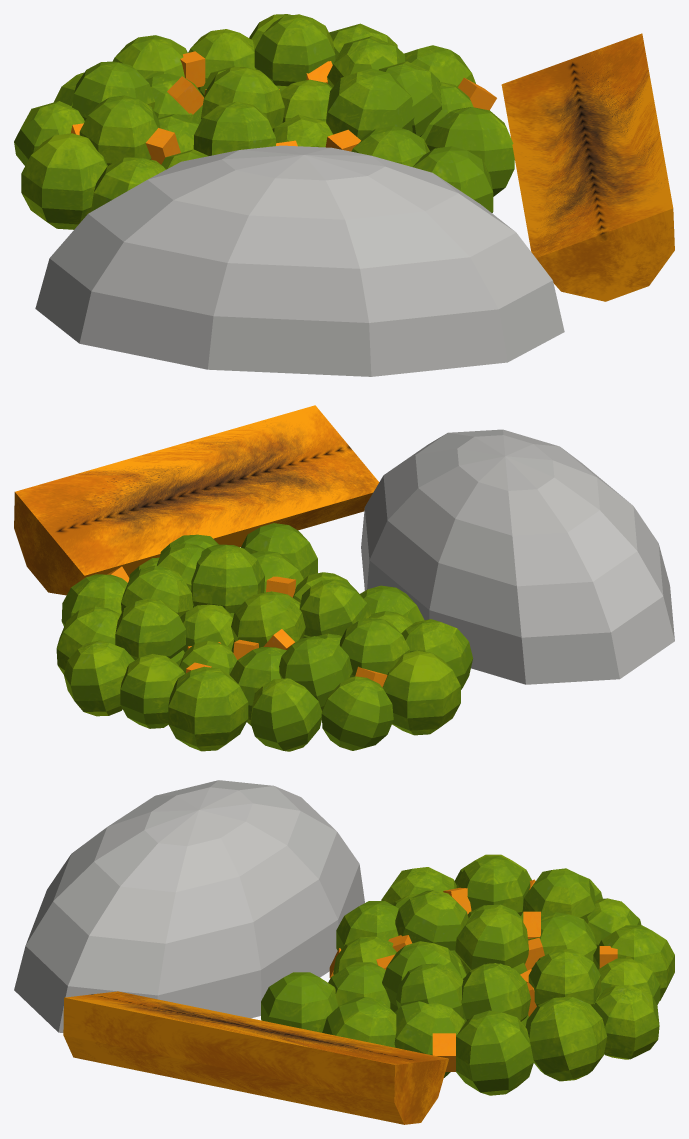
The model's file is alverjaFull.glb.
3 views of the same model, one above another, from view 1: azimuth 30°, elevation 25°; view 2: azimuth 150°, elevation 25°; view 3: azimuth 270°, elevation 25° (orthographic). The views are drawn at different scales.
Visible parts, largest first — view 1: Arroz, Platano, polySurface4, polySurface31, polySurface27, polySurface34, polySurface29, polySurface28, polySurface30, polySurface26, polySurface33, polySurface20 (+17 smaller); view 2: Arroz, Platano, polySurface19, polySurface4, polySurface20, polySurface9, polySurface23, polySurface31, polySurface17, polySurface27, polySurface26, polySurface28 (+14 smaller); view 3: Arroz, Platano, polySurface24, polySurface22, polySurface23, polySurface30, polySurface33, polySurface32, polySurface28, polySurface27, polySurface29, polySurface26 (+13 smaller).
Part boxes in pixels (bbox=[...]): Arroz: bbox=[35, 145, 564, 376]; Platano: bbox=[501, 33, 674, 301]; polySurface4: bbox=[21, 133, 107, 229]; polySurface31: bbox=[326, 68, 414, 139]; polySurface27: bbox=[254, 14, 335, 86]; polySurface34: bbox=[425, 107, 514, 196]; polySurface29: bbox=[79, 95, 160, 165]; polySurface28: bbox=[193, 101, 275, 155]; polySurface30: bbox=[201, 67, 284, 128]; polySurface26: bbox=[72, 61, 154, 120]; polySurface33: bbox=[413, 146, 493, 212]; polySurface20: bbox=[14, 101, 84, 165]; Arroz: bbox=[361, 429, 674, 684]; Platano: bbox=[14, 405, 379, 595]; polySurface19: bbox=[168, 666, 248, 751]; polySurface4: bbox=[382, 650, 460, 735]; polySurface20: bbox=[321, 676, 393, 750]; polySurface9: bbox=[250, 678, 321, 751]; polySurface23: bbox=[64, 640, 134, 716]; polySurface31: bbox=[191, 544, 264, 613]; polySurface17: bbox=[120, 654, 184, 728]; polySurface27: bbox=[115, 598, 185, 660]; polySurface26: bbox=[279, 636, 352, 711]; polySurface28: bbox=[299, 579, 370, 636]; Arroz: bbox=[14, 780, 364, 1032]; Platano: bbox=[63, 991, 448, 1124]; polySurface24: bbox=[525, 997, 607, 1081]; polySurface22: bbox=[456, 1010, 533, 1095]; polySurface23: bbox=[592, 984, 659, 1059]; polySurface30: bbox=[455, 908, 528, 970]; polySurface33: bbox=[261, 972, 338, 1032]; polySurface32: bbox=[461, 963, 530, 1021]; polySurface28: bbox=[395, 890, 468, 950]; polySurface27: bbox=[528, 949, 600, 1006]; polySurface29: bbox=[456, 856, 530, 915]; polySurface26: bbox=[522, 868, 595, 920].
Size of the model in its own units: 2.17 by 0.5537 by 2.13.
Materials: 4 (4 with a texture image).
